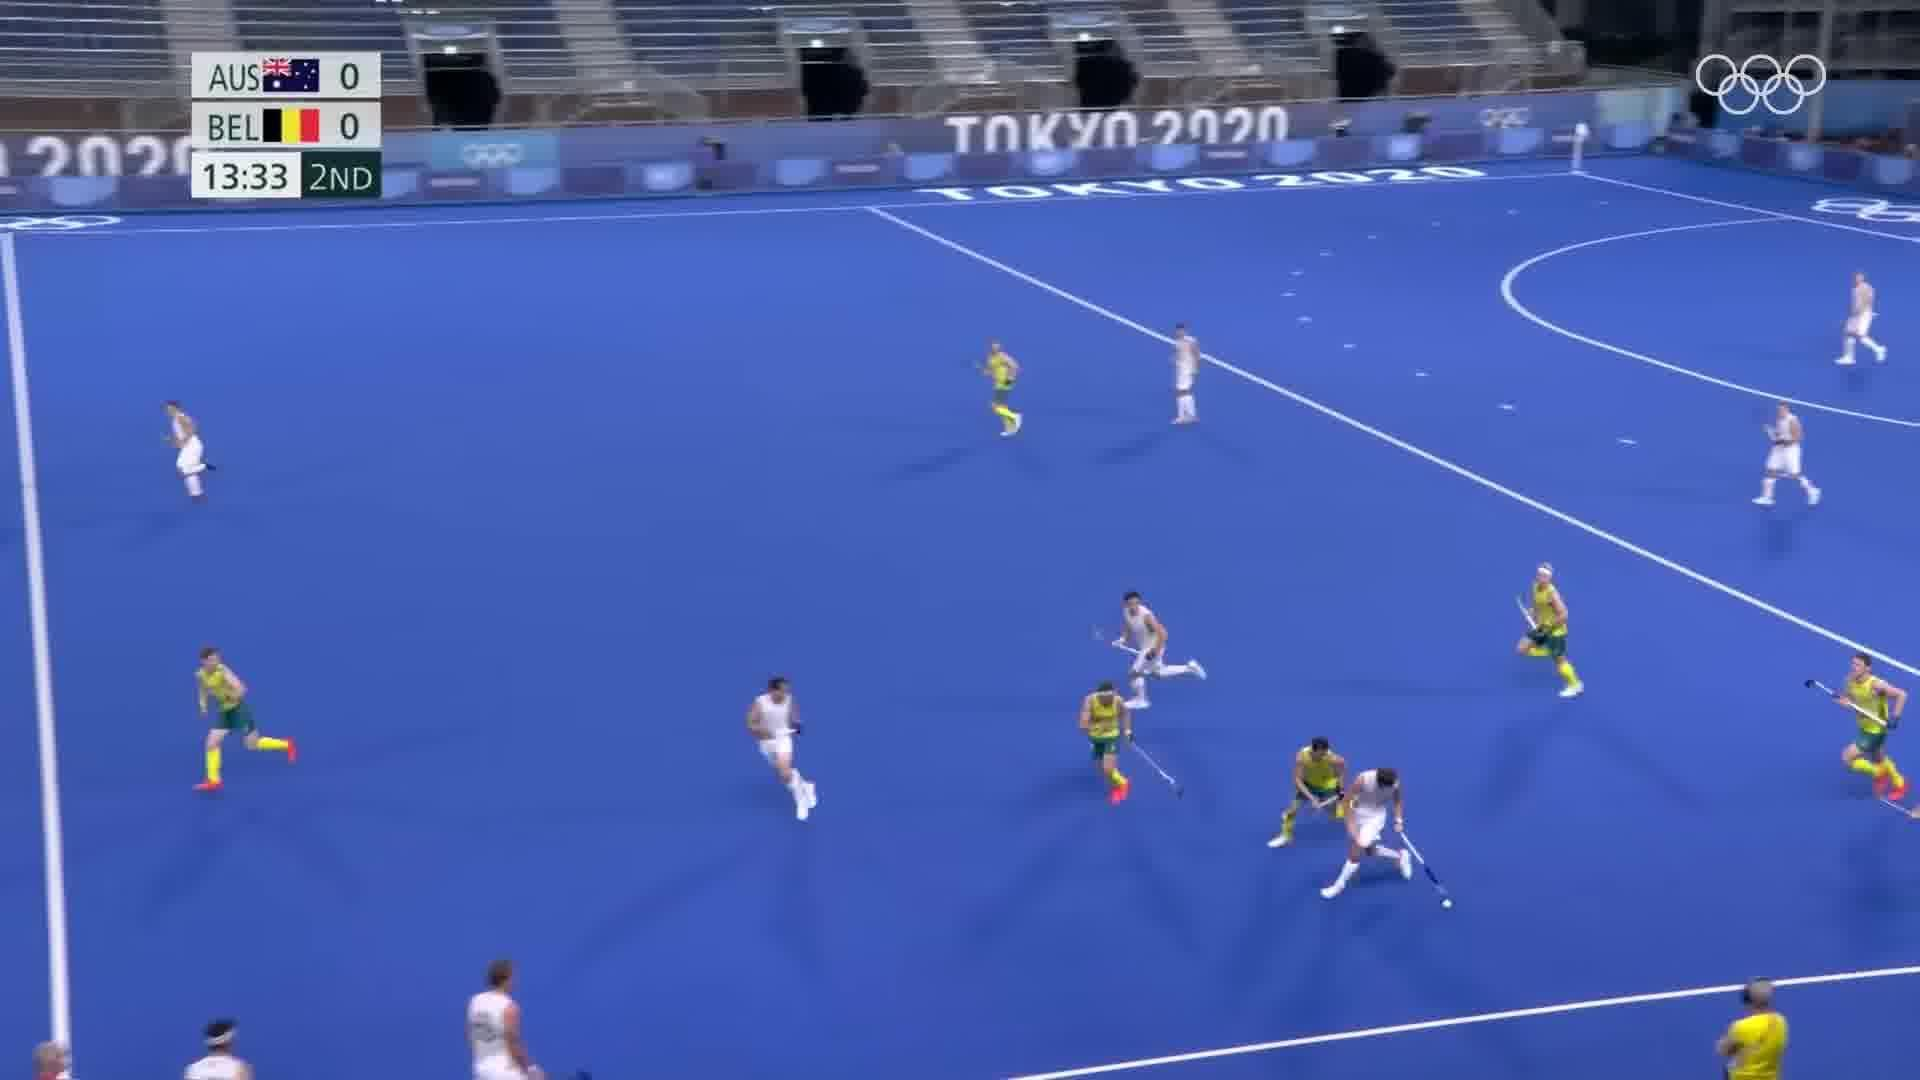ball: (1432, 891, 1462, 916)
